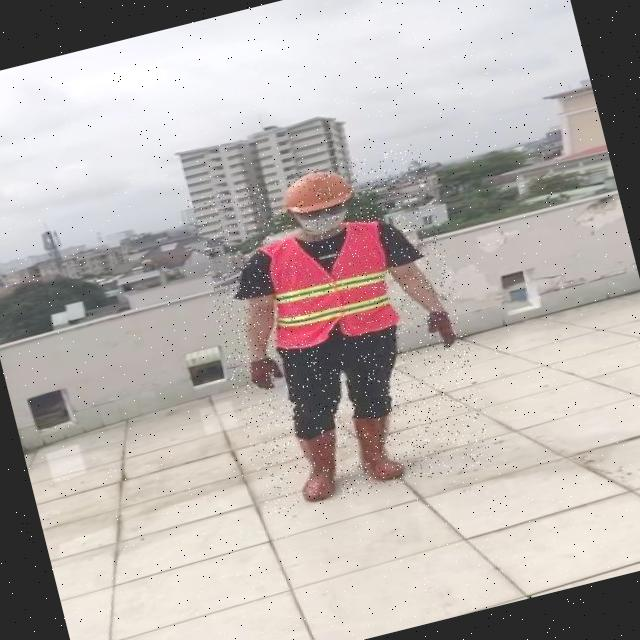boots: (285, 427, 350, 505), (348, 406, 410, 486)
helmet: (273, 162, 359, 220)
vest: (252, 216, 398, 354)
